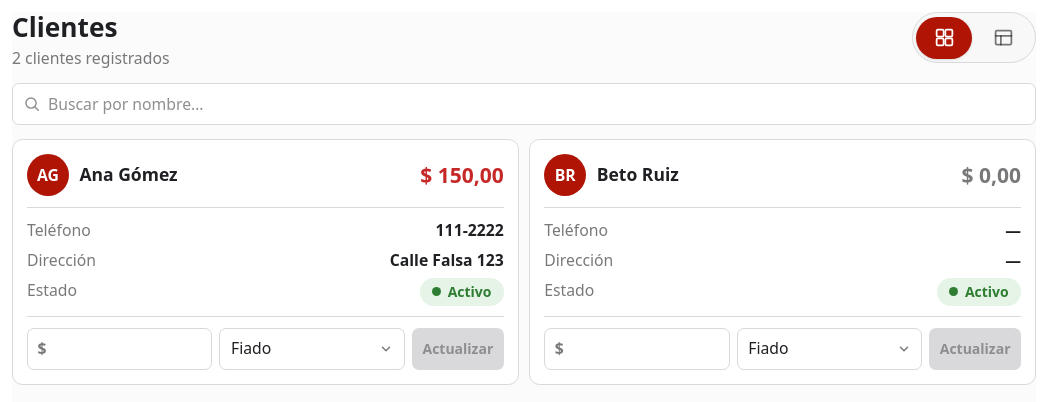
Test: CustomersPage › filters customers by name
In the field named "Buscar clientes": (524, 104) [12,83,1036,125], type "Beto"
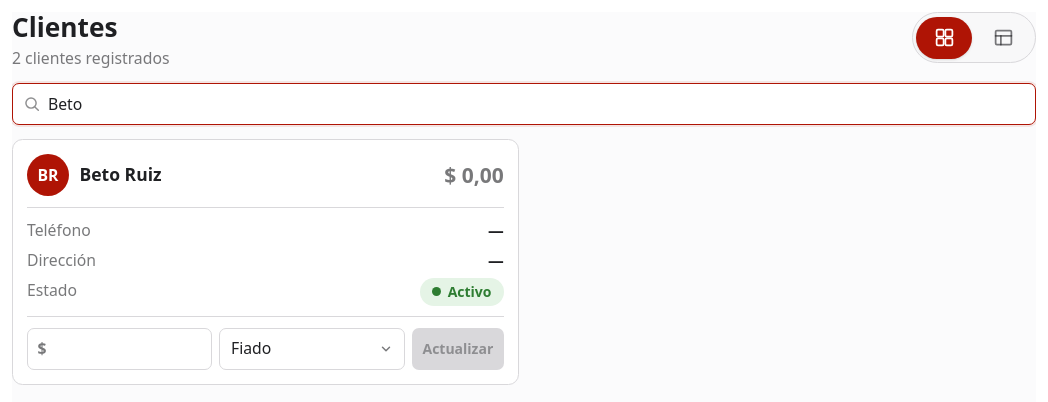
Expected: the text "Beto Ruiz" is shown, [80,162,162,186]
Expected: the text "Ana Gómez" is gone
